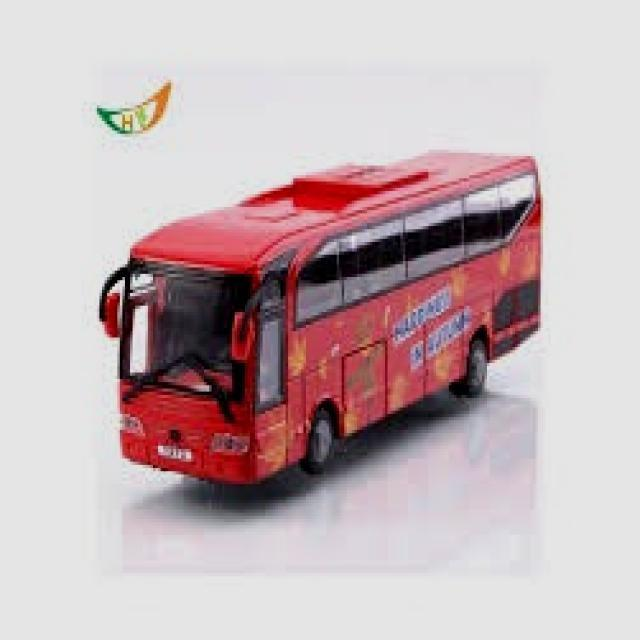Bus: (100, 124, 568, 511)
